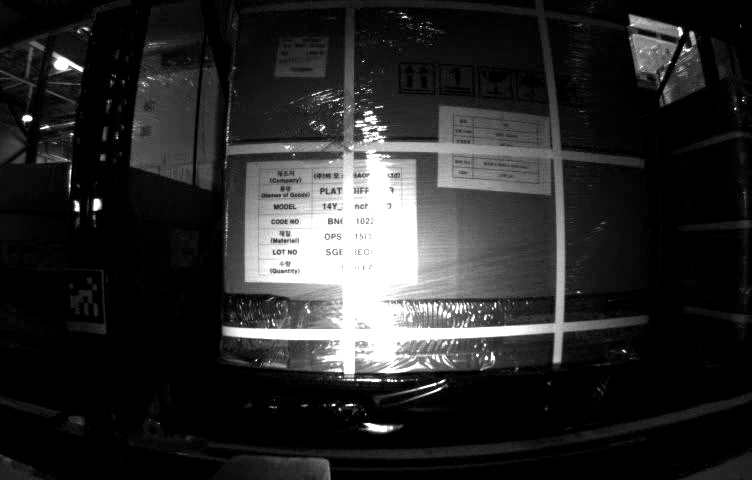True Barcode: (274, 36, 328, 79)
